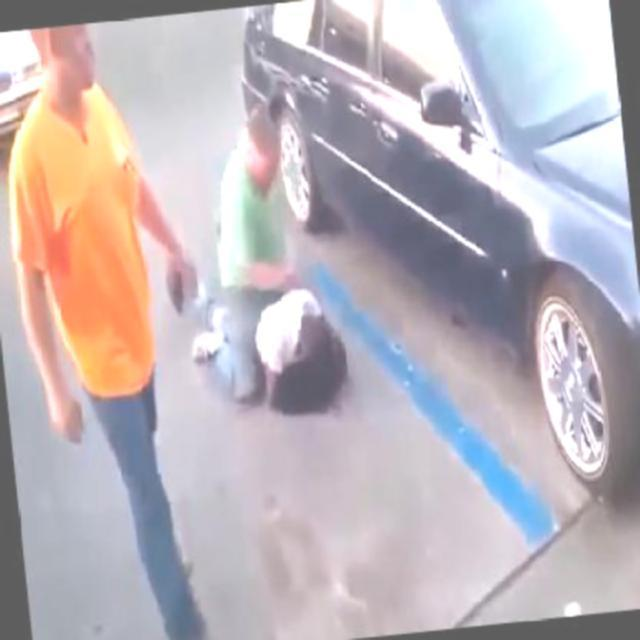fight: (178, 98, 350, 426)
